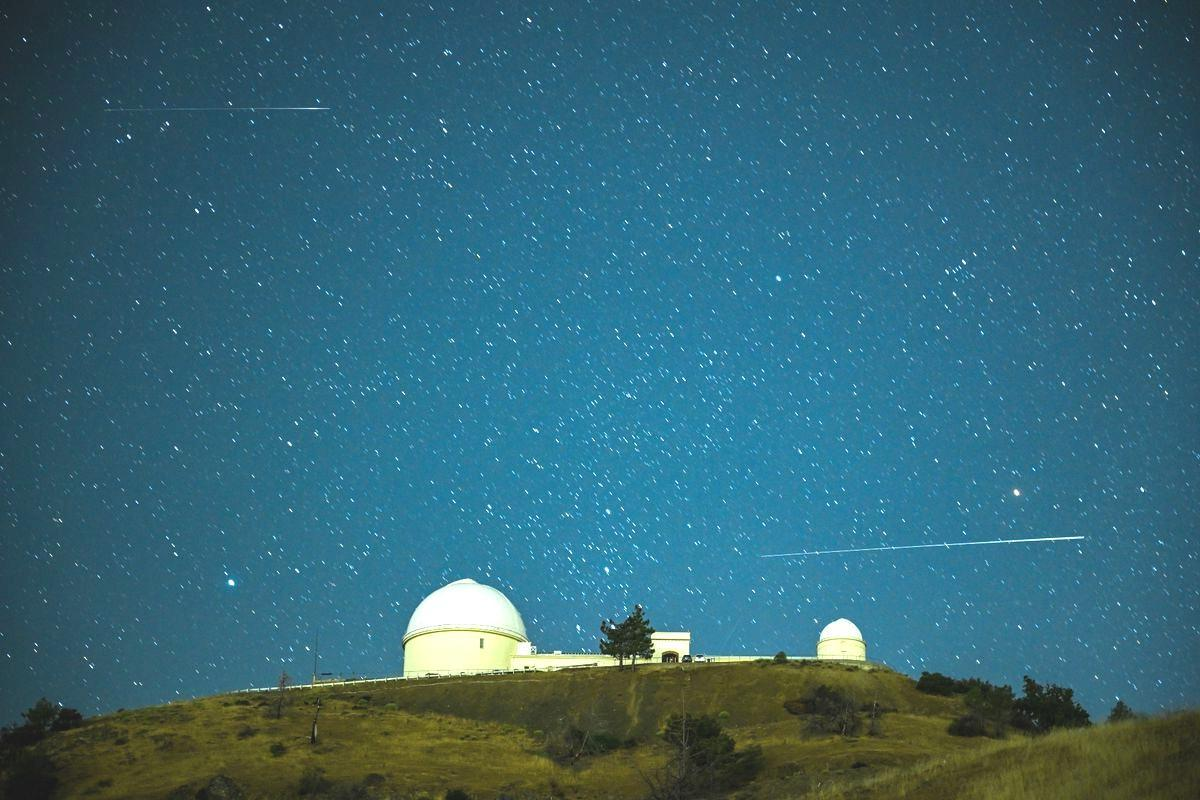meteorite: (750, 513, 1124, 580), (95, 72, 356, 124)
